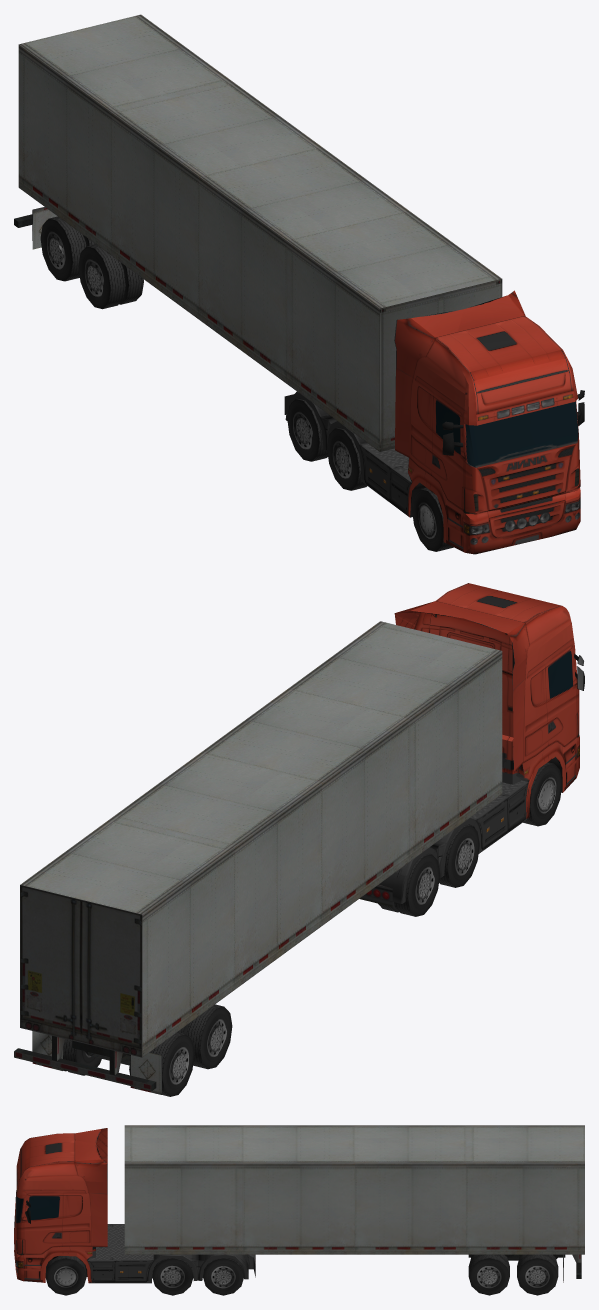
3 renders of one model, top to bottom at view 1: azimuth 30°, elevation 25°; view 2: azimuth 150°, elevation 25°; view 3: azimuth 270°, elevation 25°, orthographic. The views are drawn at different scales.
Visible parts, largest first — view 1: Trailer, Truck, Wheel_BR2, Wheel_BR1, Wheel_BR3, Wheel_BR4, Wheel_FR; view 2: Trailer, Truck, Wheel_BR2, Wheel_BR1, Wheel_BR3, Wheel_BR4, Wheel_FR; view 3: Trailer, Truck, Wheel_BL1, Wheel_BL2, Wheel_FL, Wheel_BL4, Wheel_BL3.
Part boxes in pixels (box(x1,y1,x2,y2)): Trailer: box(14, 14, 502, 451); Truck: box(284, 290, 584, 554); Wheel_BR2: box(78, 244, 143, 309); Wheel_BR1: box(40, 216, 95, 281); Wheel_BR3: box(287, 398, 327, 461); Wheel_BR4: box(327, 427, 366, 490); Wheel_FR: box(412, 487, 453, 551); Trailer: box(14, 621, 502, 1094); Truck: box(359, 583, 584, 906); Wheel_BR2: box(178, 1004, 232, 1069); Wheel_BR1: box(129, 1032, 194, 1096); Wheel_BR3: box(378, 853, 439, 916); Wheel_BR4: box(439, 824, 479, 887); Wheel_FR: box(523, 762, 562, 826); Trailer: box(124, 1125, 584, 1282); Truck: box(14, 1128, 255, 1283); Wheel_BL1: box(517, 1254, 558, 1295); Wheel_BL2: box(468, 1254, 509, 1295); Wheel_FL: box(45, 1256, 86, 1295); Wheel_BL4: box(152, 1258, 193, 1295); Wheel_BL3: box(203, 1258, 244, 1295).
Bounding box in the file's own units: 508 × 717 × 2786.
